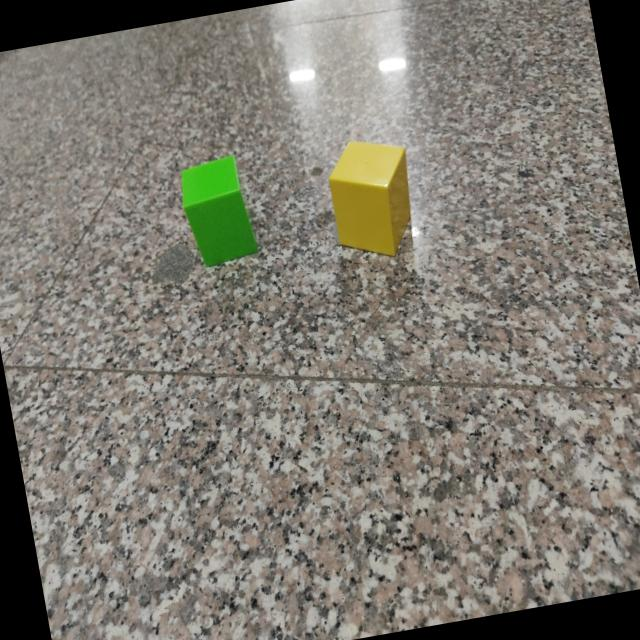green: (180, 155, 259, 267)
yellow: (328, 141, 410, 259)
